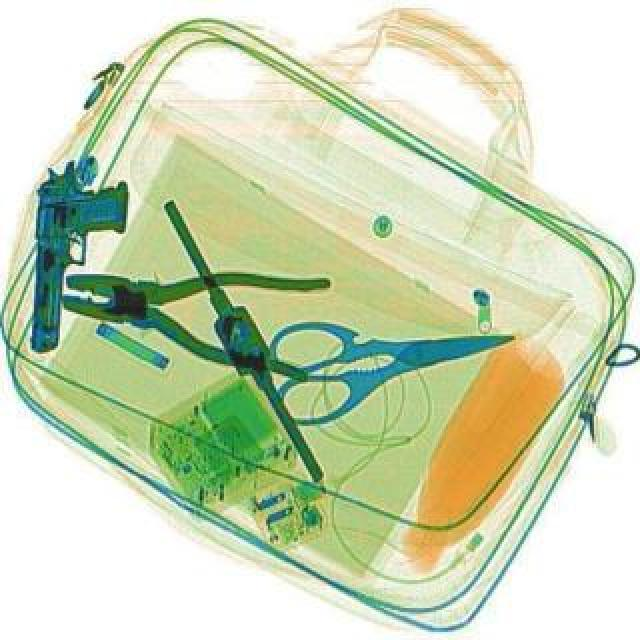gun: (30, 162, 126, 356)
pliers: (258, 288, 526, 434)
wrench: (52, 244, 330, 384)
